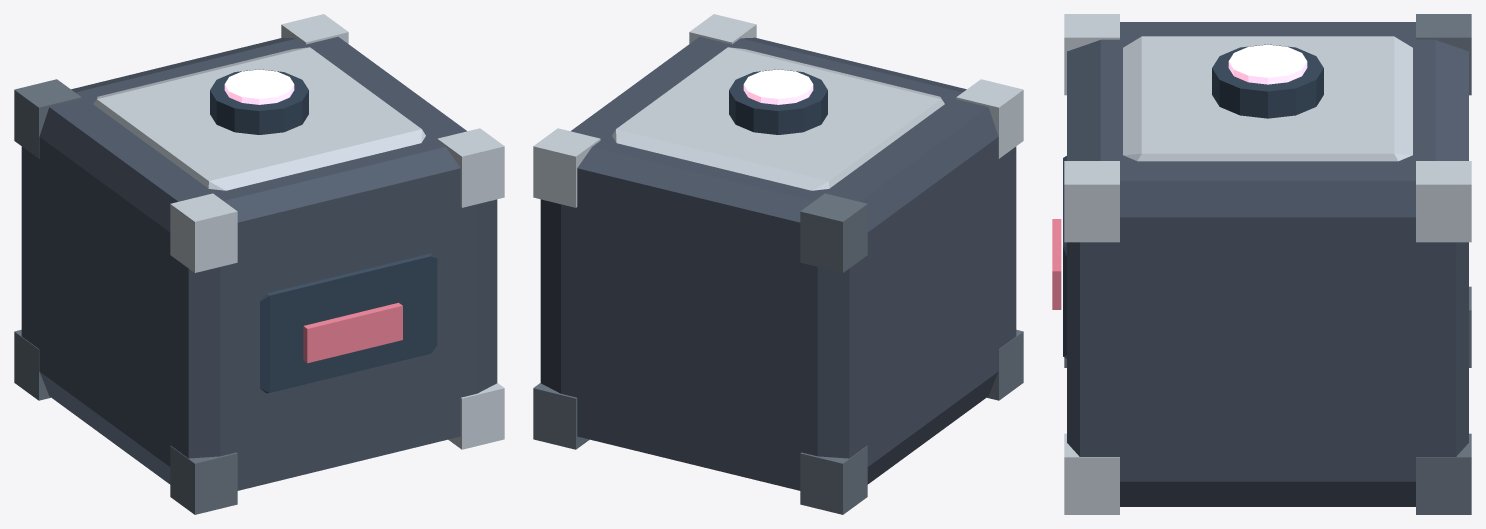
The model's file is box_elite.glb.
The picture shows the model from 3 angles, left to right: view 1: azimuth 30°, elevation 25°; view 2: azimuth 150°, elevation 25°; view 3: azimuth 270°, elevation 25°; orthographic projection. The views are drawn at different scales.
Visible parts, largest first — view 1: sci_fi_chassis, reinforced_lid, front_interface_armor, outer_corner_joint_011, front_hologram_window, outer_corner_joint_010, top_lock, outer_corner_joint_111, outer_corner_joint_001, outer_corner_joint_110, top_lock_energy, outer_corner_joint_000 (+1 smaller); view 2: sci_fi_chassis, reinforced_lid, outer_corner_joint_001, outer_corner_joint_000, top_lock, outer_corner_joint_101, outer_corner_joint_011, outer_corner_joint_100, top_lock_energy, outer_corner_joint_010, outer_corner_joint_111; view 3: sci_fi_chassis, reinforced_lid, top_lock, outer_corner_joint_101, outer_corner_joint_111, outer_corner_joint_100, outer_corner_joint_110, top_lock_energy, outer_corner_joint_001, outer_corner_joint_011, front_hologram_window, front_interface_armor.
Part boxes in pixels (x1,y1,x2,y2): sci_fi_chassis: [21, 36, 497, 490]; reinforced_lid: [93, 47, 425, 190]; front_interface_armor: [260, 253, 437, 393]; outer_corner_joint_011: [170, 193, 237, 272]; front_hologram_window: [303, 302, 402, 363]; outer_corner_joint_010: [170, 445, 237, 514]; top_lock: [210, 69, 308, 134]; outer_corner_joint_111: [437, 128, 504, 207]; outer_corner_joint_001: [14, 79, 81, 158]; outer_corner_joint_110: [448, 383, 504, 449]; top_lock_energy: [224, 69, 294, 104]; outer_corner_joint_000: [14, 329, 50, 400]; sci_fi_chassis: [540, 36, 1016, 490]; reinforced_lid: [612, 47, 944, 190]; outer_corner_joint_001: [800, 193, 867, 272]; outer_corner_joint_000: [800, 445, 867, 514]; top_lock: [729, 69, 827, 134]; outer_corner_joint_101: [533, 128, 600, 207]; outer_corner_joint_011: [956, 79, 1023, 158]; outer_corner_joint_100: [533, 383, 589, 449]; top_lock_energy: [743, 69, 813, 104]; outer_corner_joint_010: [987, 329, 1023, 400]; outer_corner_joint_111: [689, 14, 756, 44]; sci_fi_chassis: [1067, 22, 1468, 506]; reinforced_lid: [1123, 36, 1412, 161]; top_lock: [1212, 44, 1323, 118]; outer_corner_joint_101: [1416, 161, 1471, 242]; outer_corner_joint_111: [1064, 161, 1119, 242]; outer_corner_joint_100: [1416, 433, 1471, 514]; outer_corner_joint_110: [1064, 433, 1119, 514]; top_lock_energy: [1228, 44, 1307, 84]; outer_corner_joint_001: [1416, 14, 1471, 95]; outer_corner_joint_011: [1064, 14, 1119, 95]; front_hologram_window: [1052, 219, 1061, 309]; front_interface_armor: [1063, 156, 1066, 358].
Bounding box in the file's own units: 1.52 × 1.53 × 1.58.
